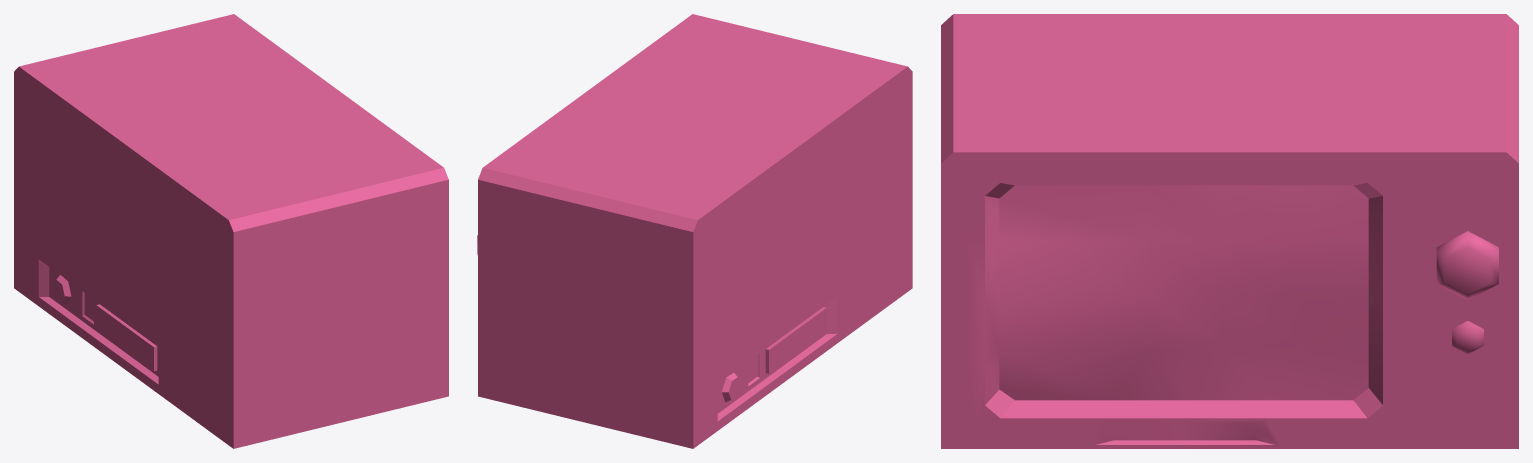
Rendered from microwave.fbx.
The picture shows the model from 3 angles, left to right: view 1: azimuth 30°, elevation 25°; view 2: azimuth 150°, elevation 25°; view 3: azimuth 270°, elevation 25°; orthographic projection. The views are drawn at different scales.
Parts seen in each view (by area): view 1: Cube; view 2: Cube; view 3: Cube, Cube.001.
Part boxes in pixels (x1,y1,x2,y2): Cube: [14, 14, 448, 448]; Cube: [478, 14, 912, 448]; Cube: [941, 14, 1518, 448]; Cube.001: [1436, 231, 1498, 353].
Size of the model in its own units: 211 by 200 by 353.
